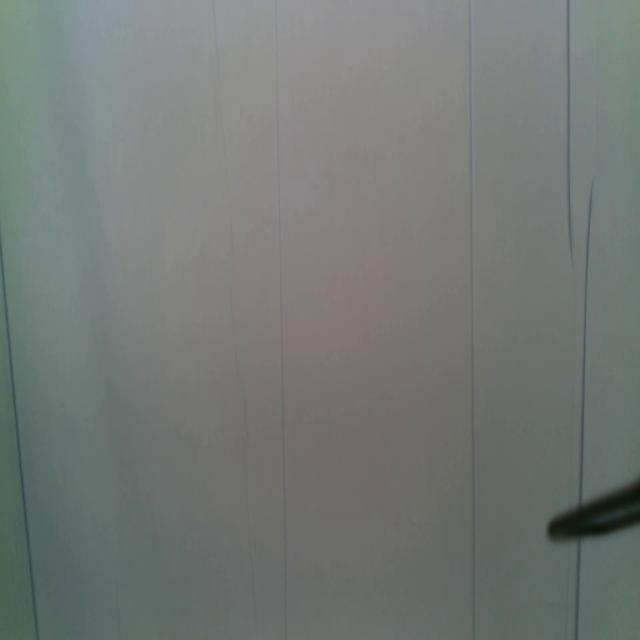crease: (211, 0, 259, 637), (1, 231, 39, 640), (272, 0, 290, 637), (578, 177, 596, 504), (468, 0, 477, 640), (565, 0, 575, 268), (572, 541, 582, 640)
